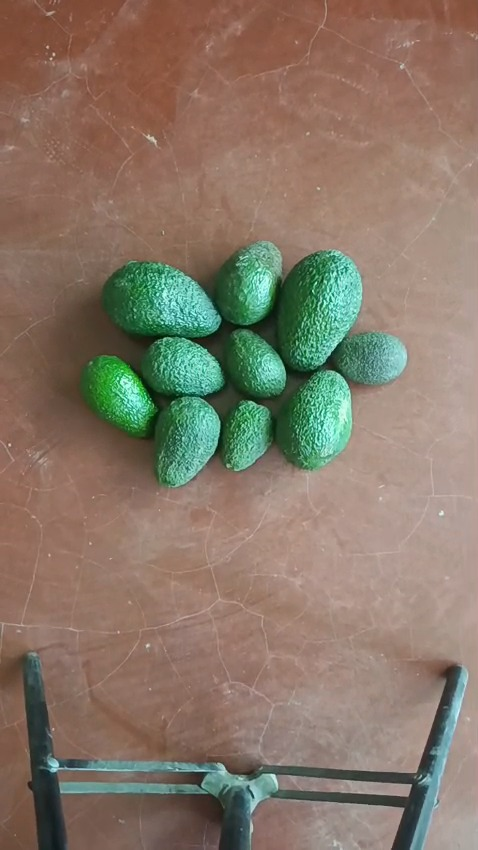Primera: (274, 248, 362, 372), (101, 260, 223, 340), (275, 370, 352, 469)
Segunda: (79, 354, 158, 438), (152, 395, 221, 485), (213, 240, 284, 326), (139, 336, 226, 398)
Tercera: (222, 328, 286, 398), (330, 331, 407, 386), (220, 399, 274, 471)
